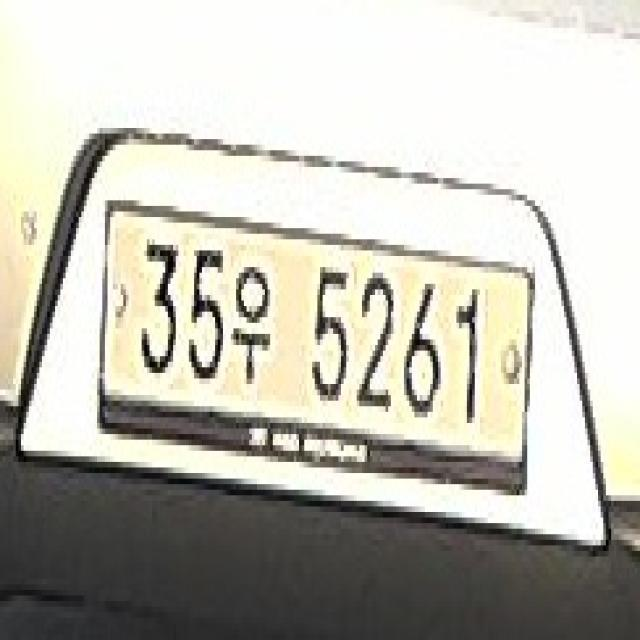plat: (98, 191, 542, 505)
